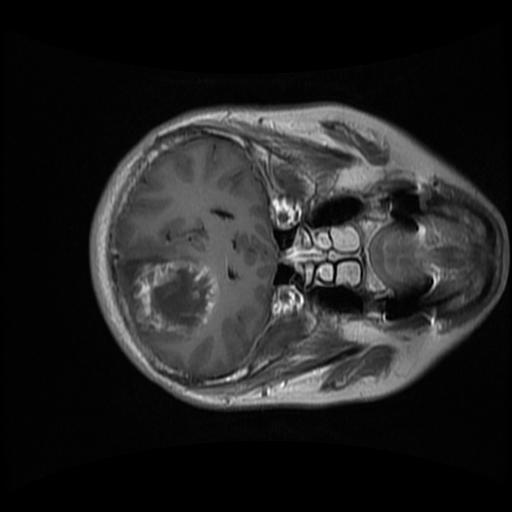glioma: (123, 256, 220, 341)
